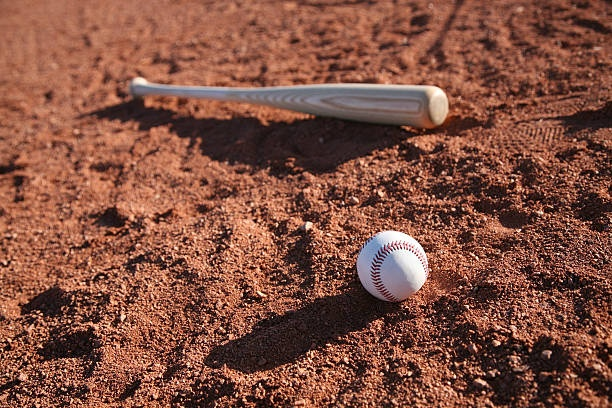bita: (125, 76, 447, 125)
